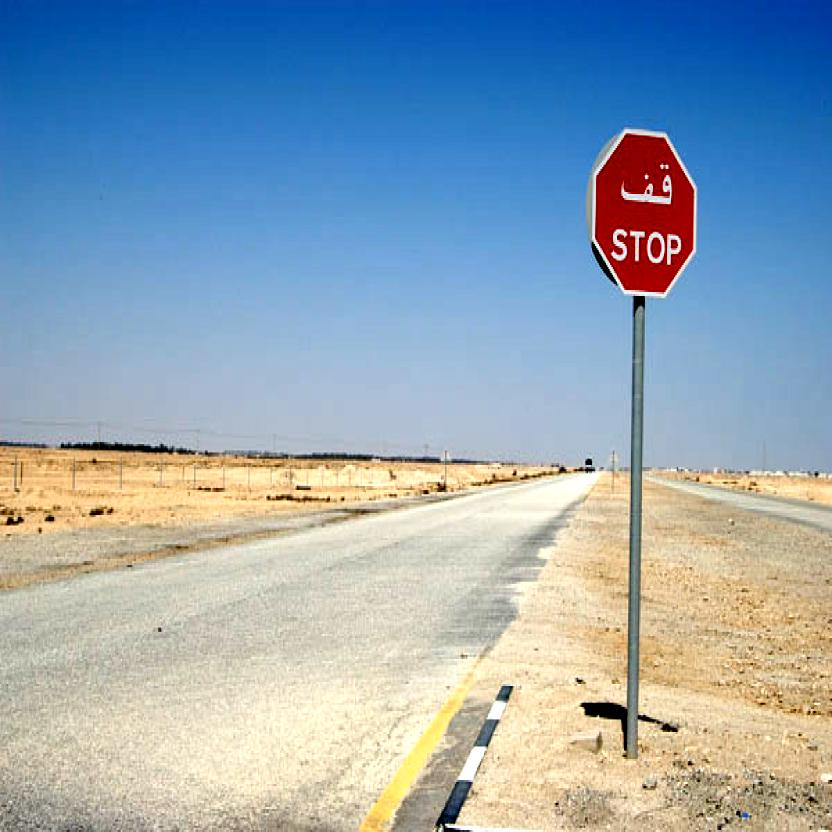Pole: (626, 298, 645, 755)
Sign: (595, 128, 697, 295)
